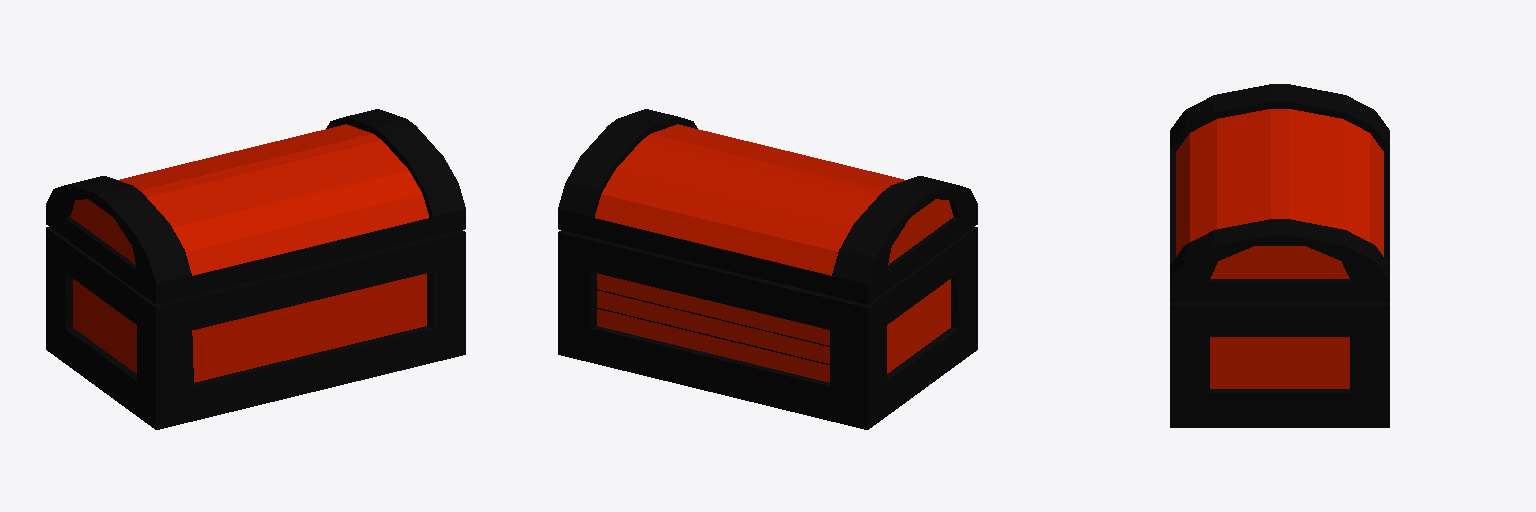
File: chest1.obj
3 renders of one model, left to right at view 1: azimuth 30°, elevation 25°; view 2: azimuth 150°, elevation 25°; view 3: azimuth 270°, elevation 25°, orthographic.
Visible parts, largest first — view 1: Cube; view 2: Cube; view 3: Cube.
Part boxes in pixels (x1,y1,x2,y2): Cube: (46, 109, 465, 429); Cube: (558, 109, 977, 429); Cube: (1170, 84, 1389, 427).
Bounding box in the file's own units: 21.28 × 12.61 × 13.12.